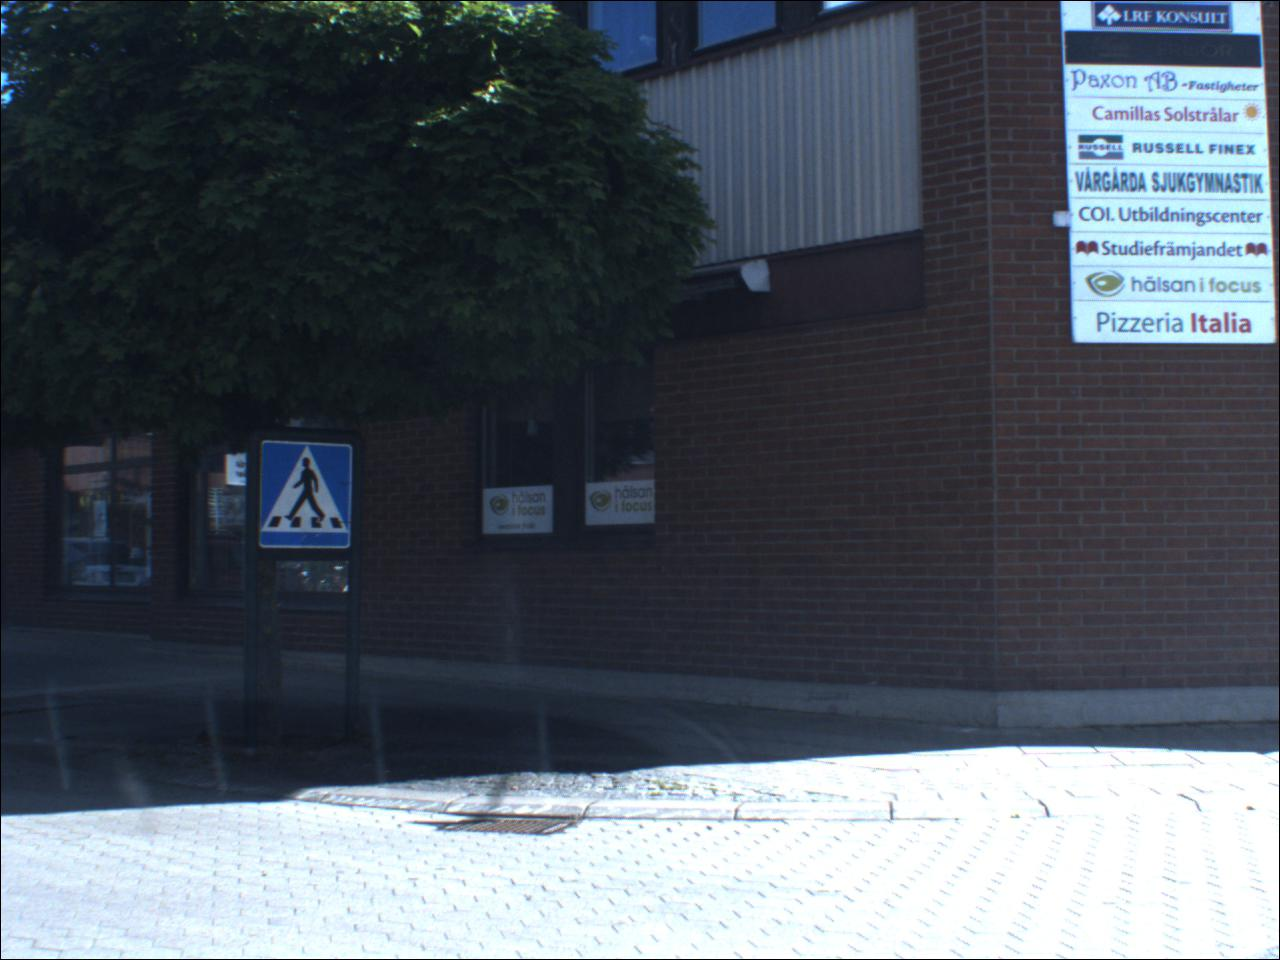PEDESTRIAN_CROSSING: (259, 442, 350, 552)
